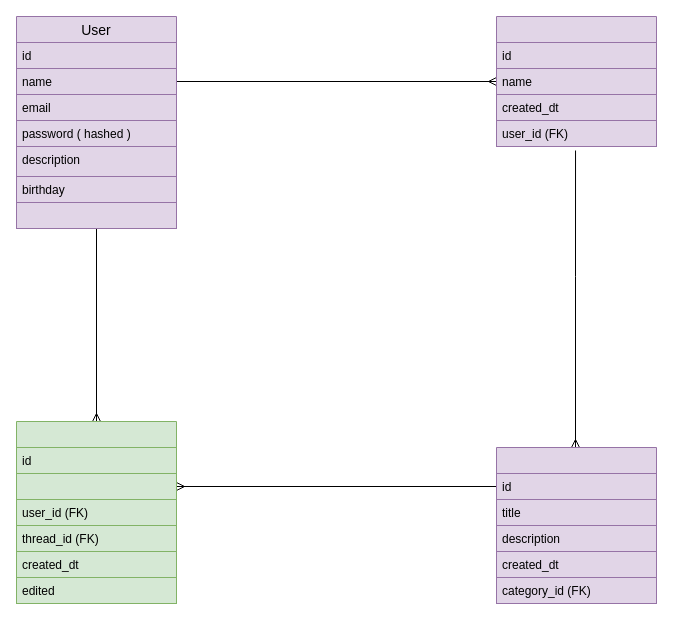
Image size: 673x620. Some labels were removed from this diagram. Each missing label, with the box of its shape:
Category: (496, 16, 656, 146)
content: (16, 472, 176, 500)
Message: (16, 420, 176, 604)
role_id: (16, 202, 176, 228)
Thread: (496, 446, 656, 604)
